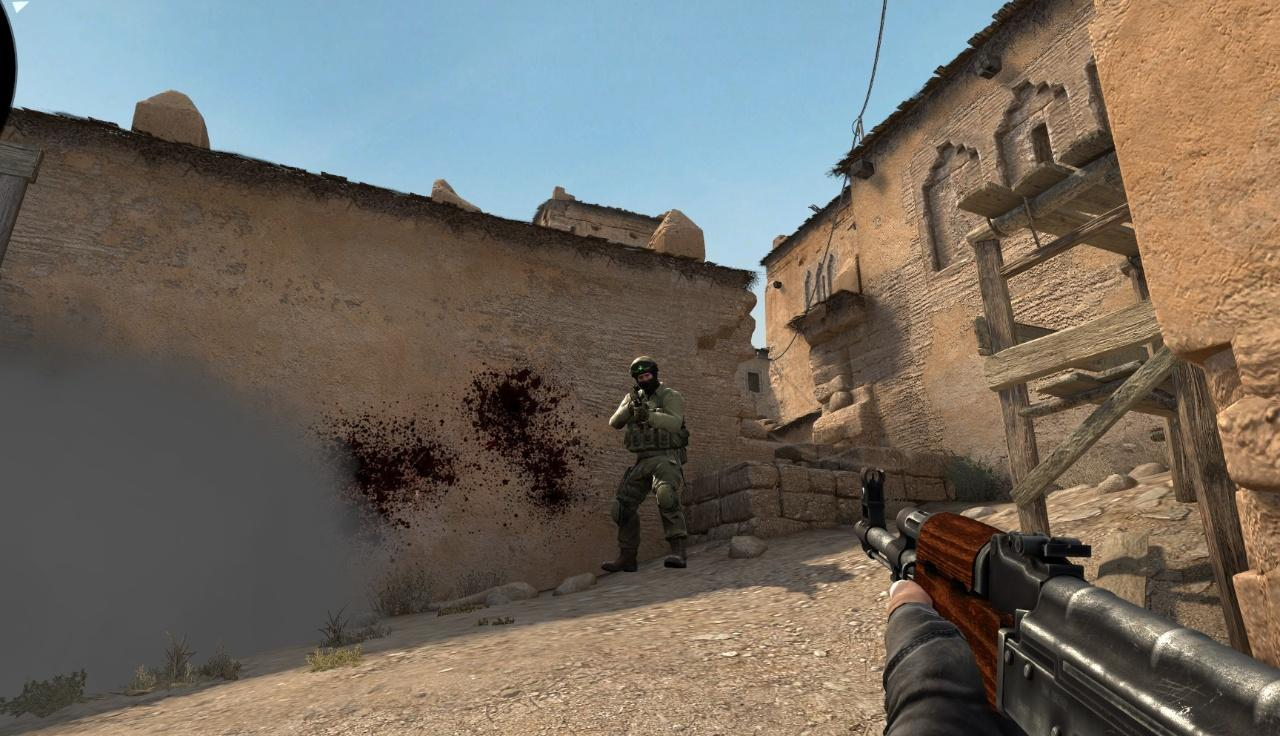ct: (607, 356, 690, 570)
cthead: (630, 357, 658, 391)
rifle: (854, 466, 1280, 736)
